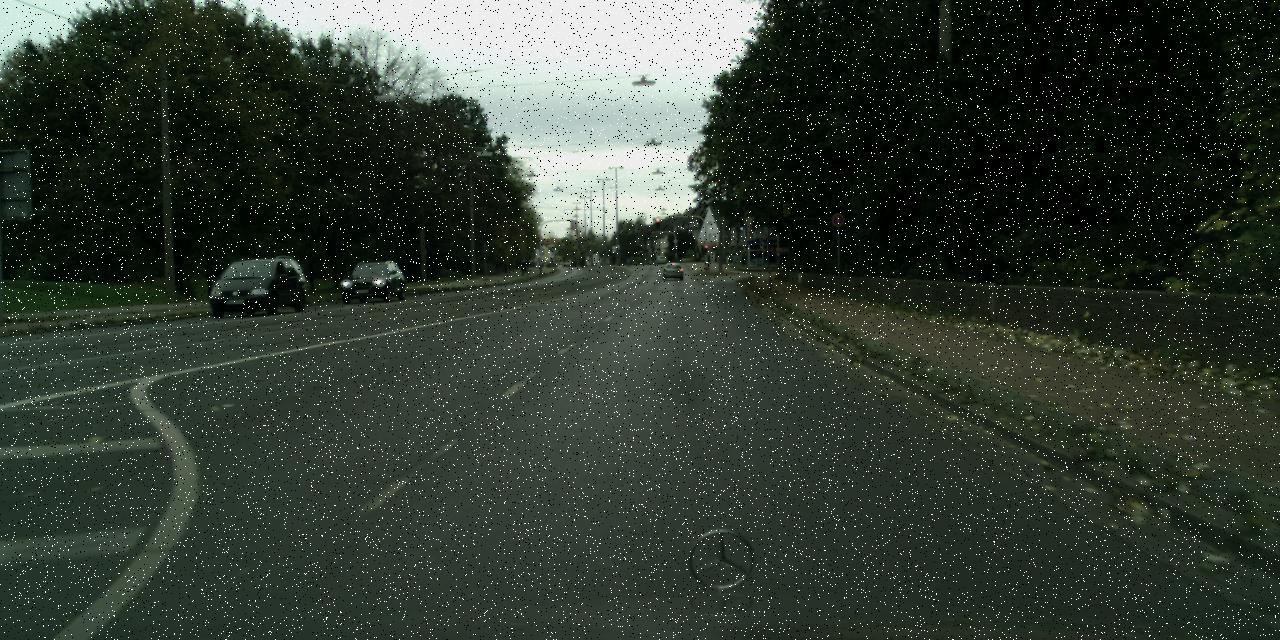ped: (521, 260, 531, 276)
